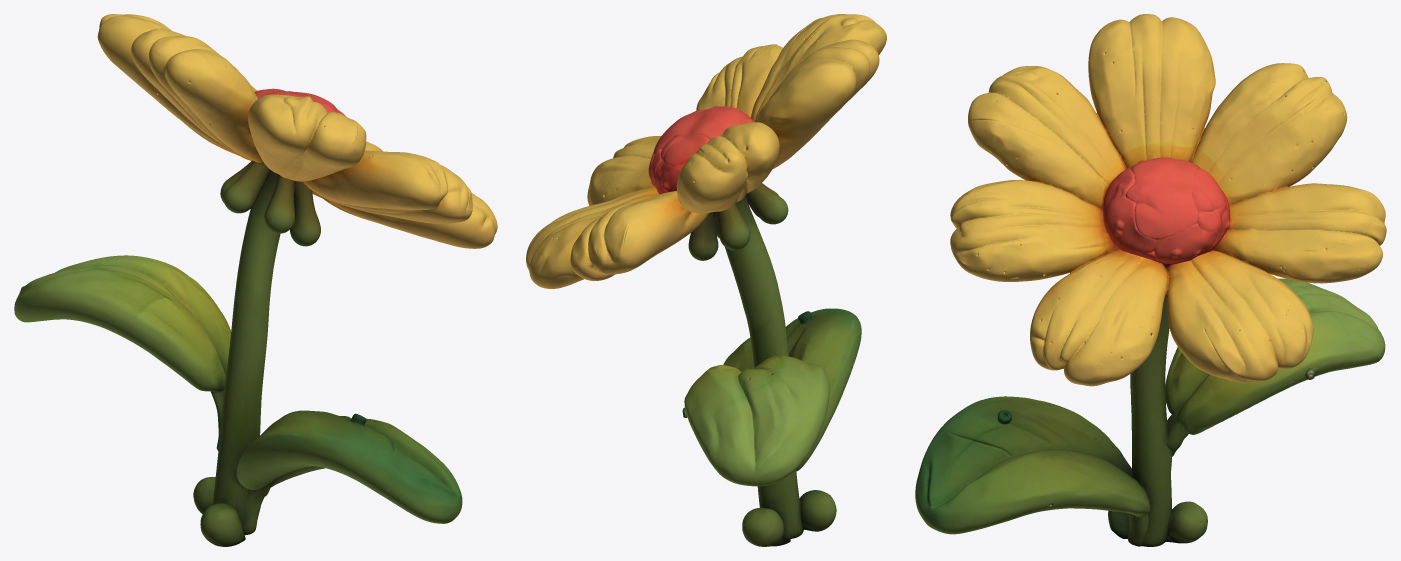
File: yellow.glb
3 views of the same model, side by side, from view 1: azimuth 30°, elevation 25°; view 2: azimuth 150°, elevation 25°; view 3: azimuth 270°, elevation 25° (orthographic). The views are drawn at different scales.
Visible parts, largest first — view 1: tripo_node_e43dddcc-15af-4f89-a044-2efcc8738156; view 2: tripo_node_e43dddcc-15af-4f89-a044-2efcc8738156; view 3: tripo_node_e43dddcc-15af-4f89-a044-2efcc8738156.
Part boxes in pixels (bbox=[...]): tripo_node_e43dddcc-15af-4f89-a044-2efcc8738156: bbox=[14, 14, 497, 546]; tripo_node_e43dddcc-15af-4f89-a044-2efcc8738156: bbox=[526, 14, 886, 546]; tripo_node_e43dddcc-15af-4f89-a044-2efcc8738156: bbox=[915, 14, 1386, 546].
Bounding box in the file's own units: 0.7105 × 1 × 0.8675.
Materials: 1 (1 with a texture image).
